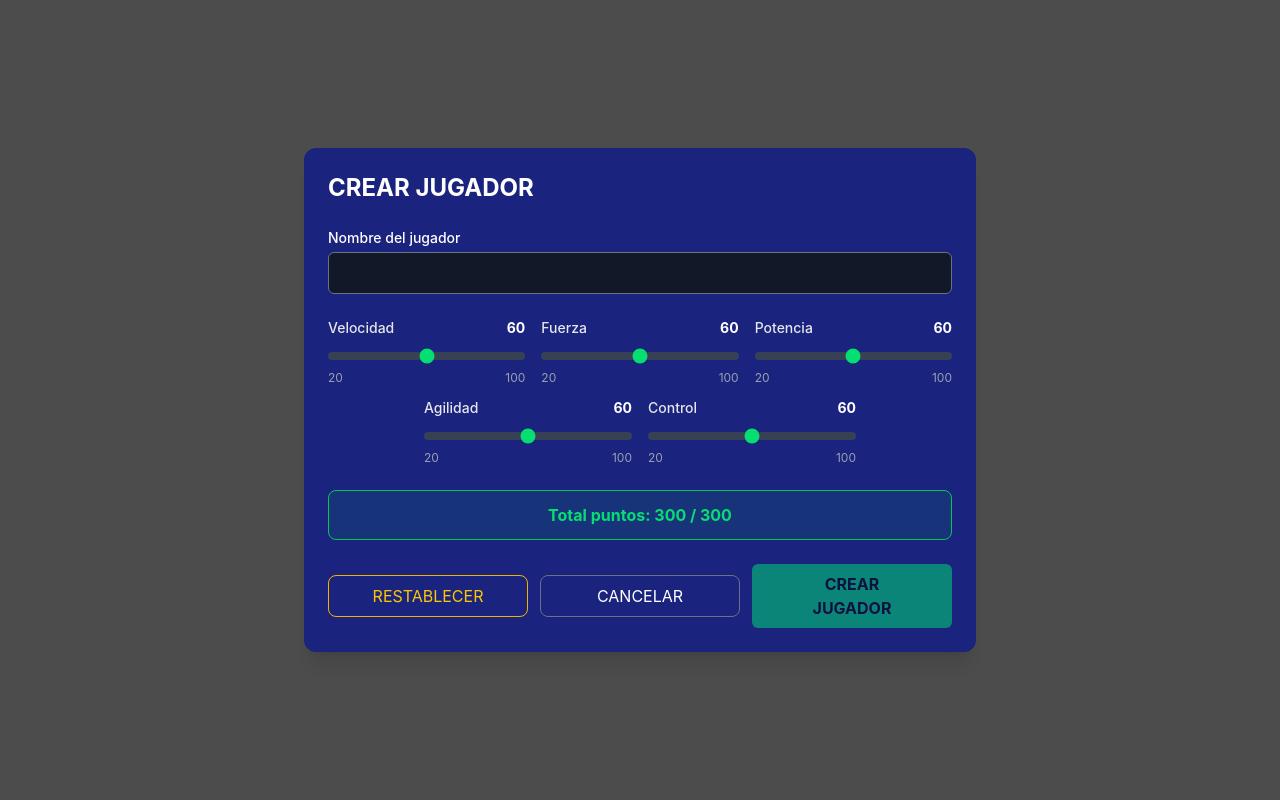
it: CrearJugadorForm › muestra el error cuando la API responde 400
Simulamos la entrada de datos en el formulario
In the field labelled "Nombre del jugador": {"x": 640, "y": 273} [328,252,952,294], type "Jugador de prueba"
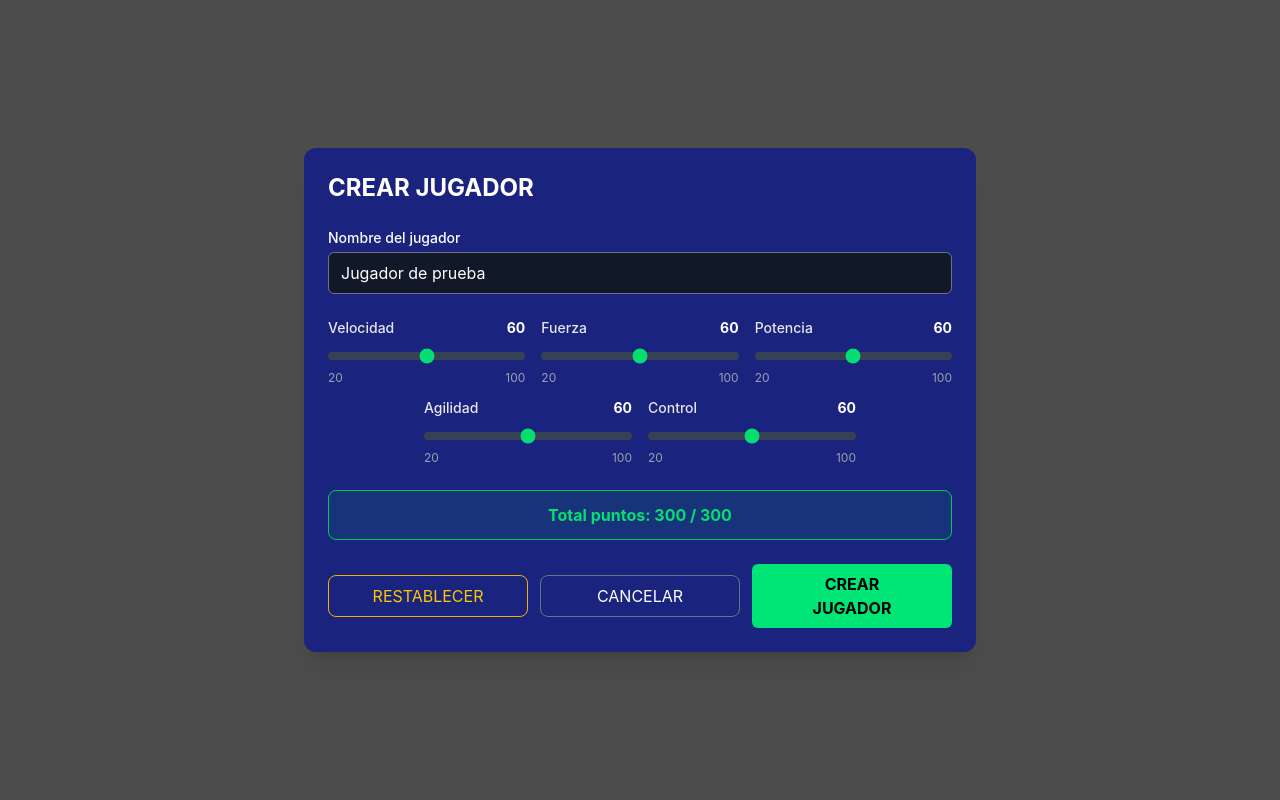
Simulamos la modificación del slider velocidad para que el total de estadísticas no sea 300
Set the slider named "Velocidad" to "80": {"x": 472, "y": 356} [328,352,525,360]
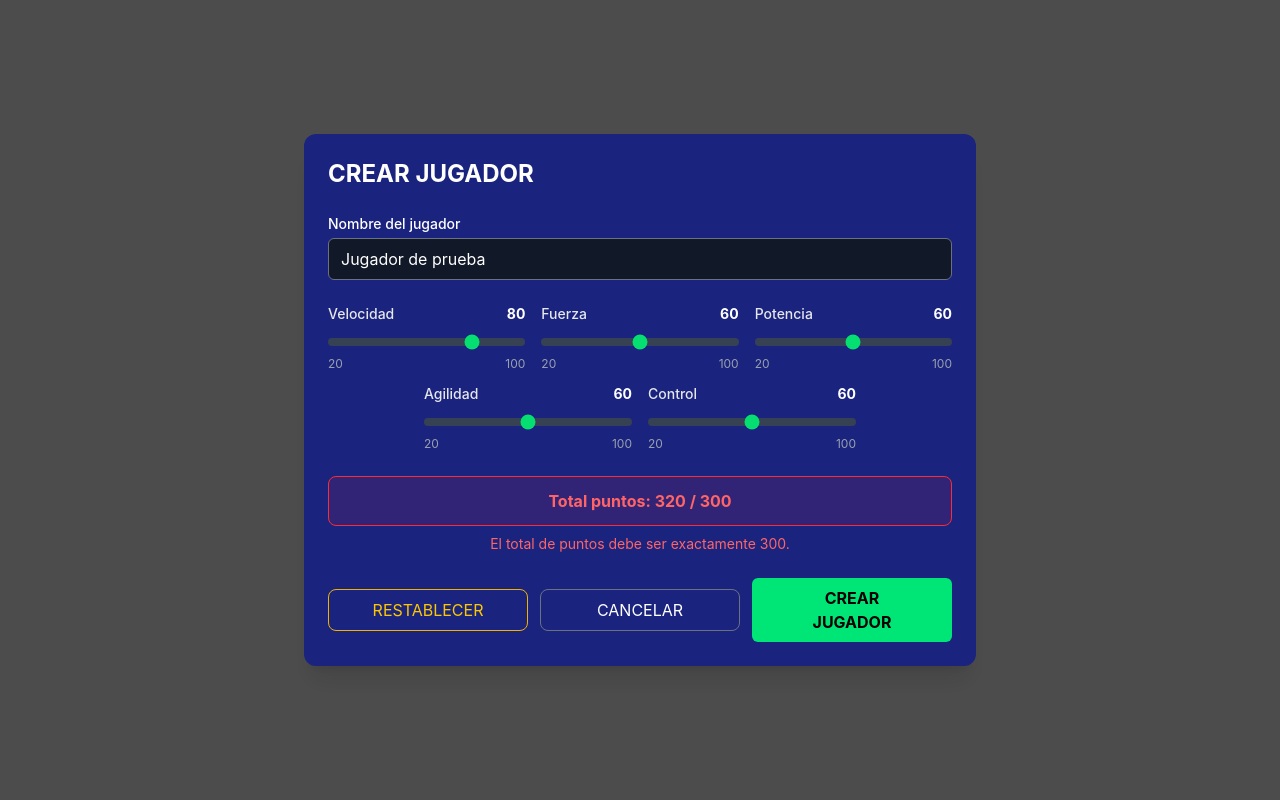
Now the button "CREAR JUGADOR" is enabled
Now the text "Total puntos: 320 / 300" is shown, box [548,491,732,511]
Simulamos el envío del formulario
Click the button "CREAR JUGADOR": {"x": 852, "y": 610} [752,578,952,642]
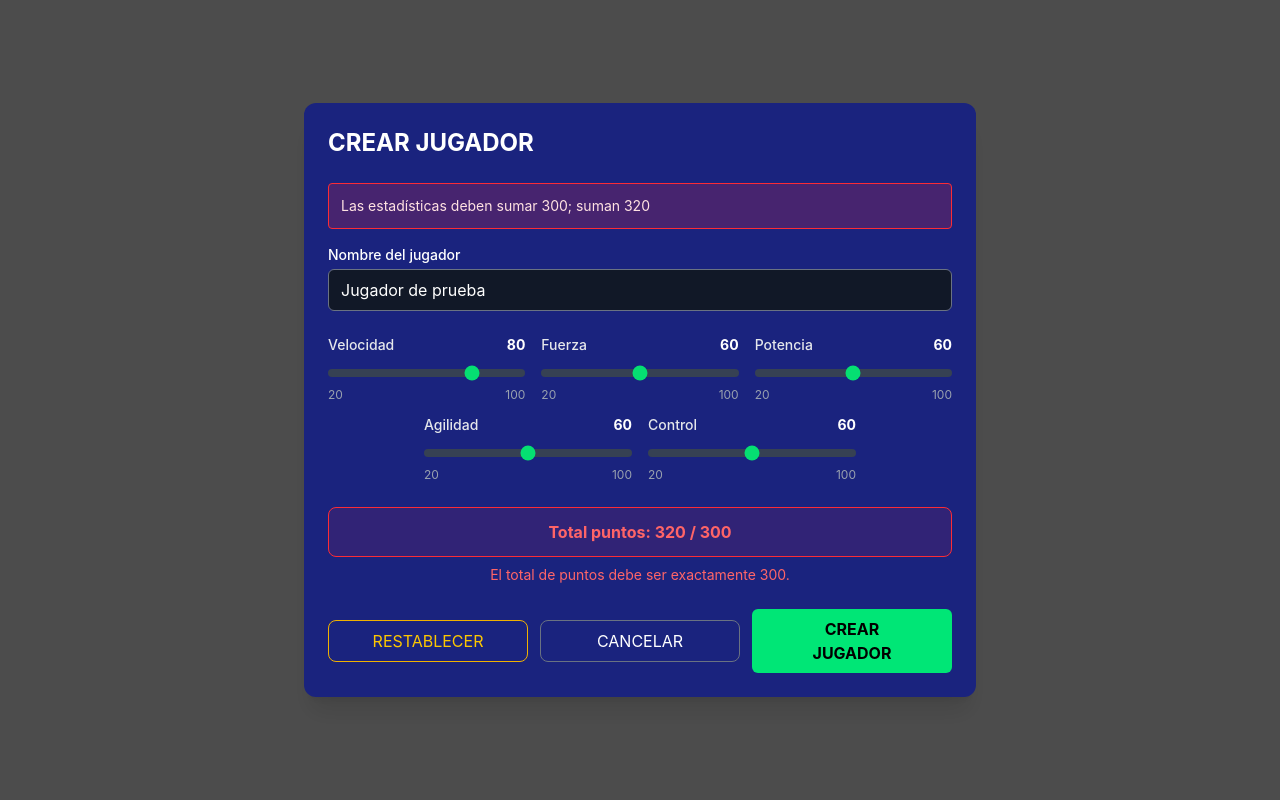
Now the text "Las estadísticas deben sumar 300; suman 320" is shown, box [328,183,952,229]
